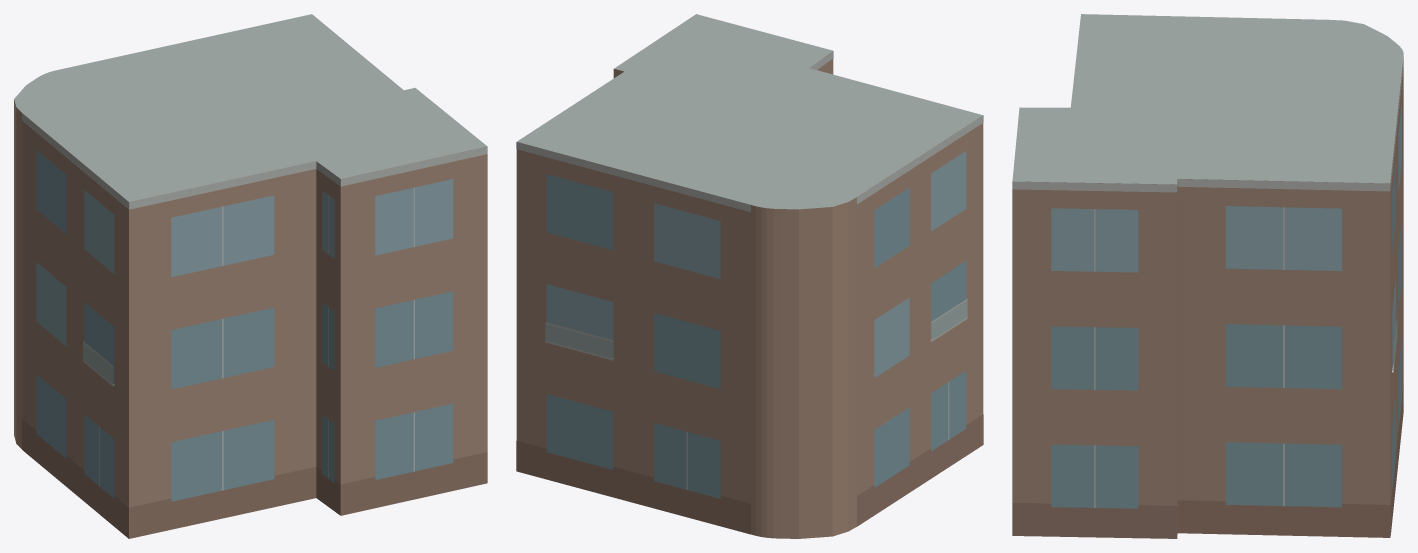
The model's file is survey-upis-32975122.glb.
3 views of the same model, side by side, from view 1: azimuth 30°, elevation 25°; view 2: azimuth 150°, elevation 25°; view 3: azimuth 270°, elevation 25° (orthographic). The views are drawn at different scales.
Parts seen in each view (by area): view 1: survey-upis-32975122.tmp; view 2: survey-upis-32975122.tmp; view 3: survey-upis-32975122.tmp.
Part boxes in pixels (box(x1,y1,x2,y2)): survey-upis-32975122.tmp: box(14, 14, 487, 538); survey-upis-32975122.tmp: box(516, 14, 983, 538); survey-upis-32975122.tmp: box(1012, 14, 1403, 538).
Bounding box in the file's own units: 11.15 × 10.8 × 10.82.
